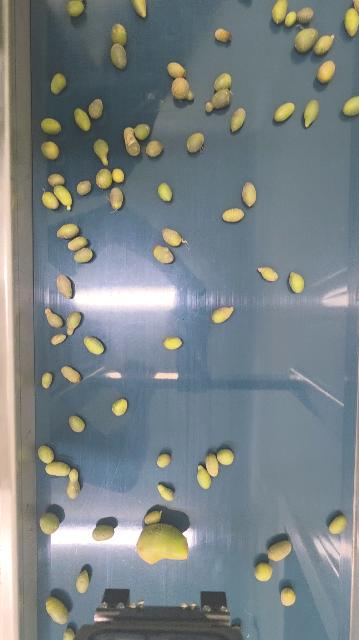Baby Potato: (136, 523, 191, 566), (204, 87, 233, 113), (294, 26, 320, 53), (45, 596, 69, 625), (171, 76, 195, 102), (302, 98, 321, 129), (53, 183, 74, 211), (268, 539, 293, 562), (122, 127, 140, 158), (314, 33, 336, 56), (39, 511, 60, 535), (316, 59, 336, 84), (343, 6, 359, 37), (110, 43, 128, 70), (274, 101, 296, 123), (211, 305, 235, 325), (93, 139, 110, 167), (73, 107, 92, 132), (66, 468, 81, 499), (163, 227, 185, 248), (153, 244, 175, 265), (272, 0, 290, 25), (56, 274, 74, 299), (65, 311, 83, 336), (196, 462, 212, 490), (230, 107, 247, 133), (329, 514, 349, 536), (186, 131, 205, 154), (241, 181, 257, 208), (83, 335, 104, 355), (40, 117, 62, 136), (95, 167, 113, 190), (50, 72, 68, 95), (56, 222, 79, 240), (92, 524, 115, 542), (289, 270, 306, 294), (45, 461, 72, 476), (205, 452, 221, 477), (255, 561, 274, 582), (41, 140, 60, 161), (44, 307, 63, 328), (72, 246, 94, 264), (111, 22, 128, 45), (342, 94, 359, 117), (60, 365, 81, 383), (41, 189, 59, 210), (109, 186, 124, 211), (75, 569, 90, 594), (214, 71, 232, 91), (88, 97, 104, 119), (66, 235, 88, 251), (258, 266, 280, 282), (222, 208, 245, 223), (131, 0, 149, 19), (217, 447, 235, 466), (167, 61, 187, 78), (280, 586, 297, 606), (297, 6, 315, 24), (157, 483, 175, 501), (144, 508, 163, 525), (66, 0, 85, 17), (146, 139, 163, 157), (38, 444, 54, 463), (112, 397, 128, 416), (134, 123, 151, 140), (69, 414, 85, 432), (158, 182, 172, 202), (163, 336, 183, 350), (284, 9, 298, 28), (47, 173, 66, 187), (215, 27, 231, 43), (156, 452, 171, 468), (77, 179, 92, 195), (112, 167, 125, 184), (41, 371, 53, 389), (51, 333, 67, 345), (62, 627, 74, 640), (352, 0, 359, 14)
